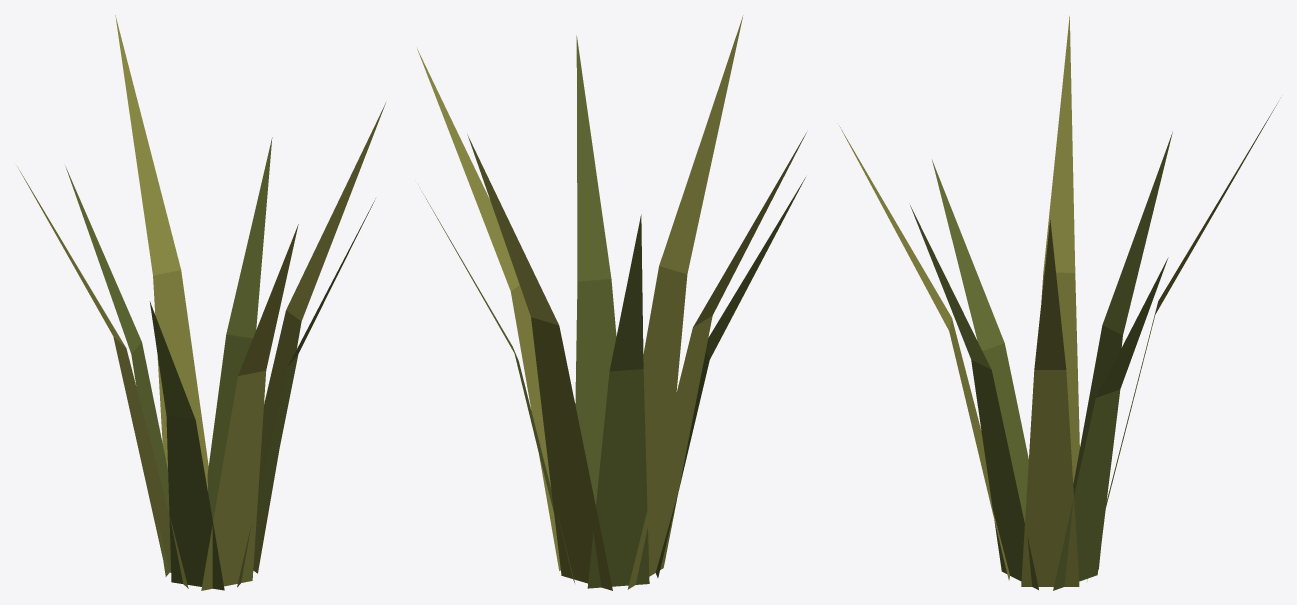
File: capim_alto.glb
3 renders of one model, left to right at view 1: azimuth 30°, elevation 25°; view 2: azimuth 150°, elevation 25°; view 3: azimuth 270°, elevation 25°, orthographic. The views are drawn at different scales.
Parts seen in each view (by area): view 1: capim_alto; view 2: capim_alto; view 3: capim_alto.
Part boxes in pixels (x1,y1,x2,y2): capim_alto: (17,15,385,590); capim_alto: (417,15,806,590); capim_alto: (839,16,1278,590).
Size of the model in its own units: 0.8882 by 1.1 by 0.9165.
